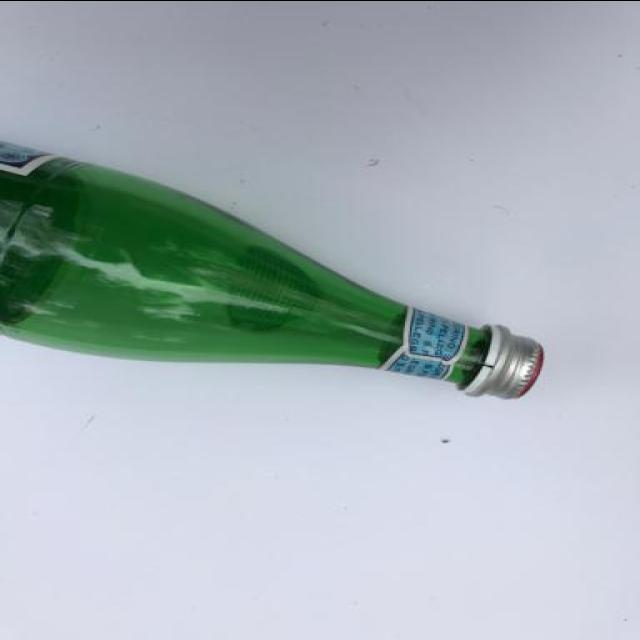litter: (0, 131, 550, 401)
